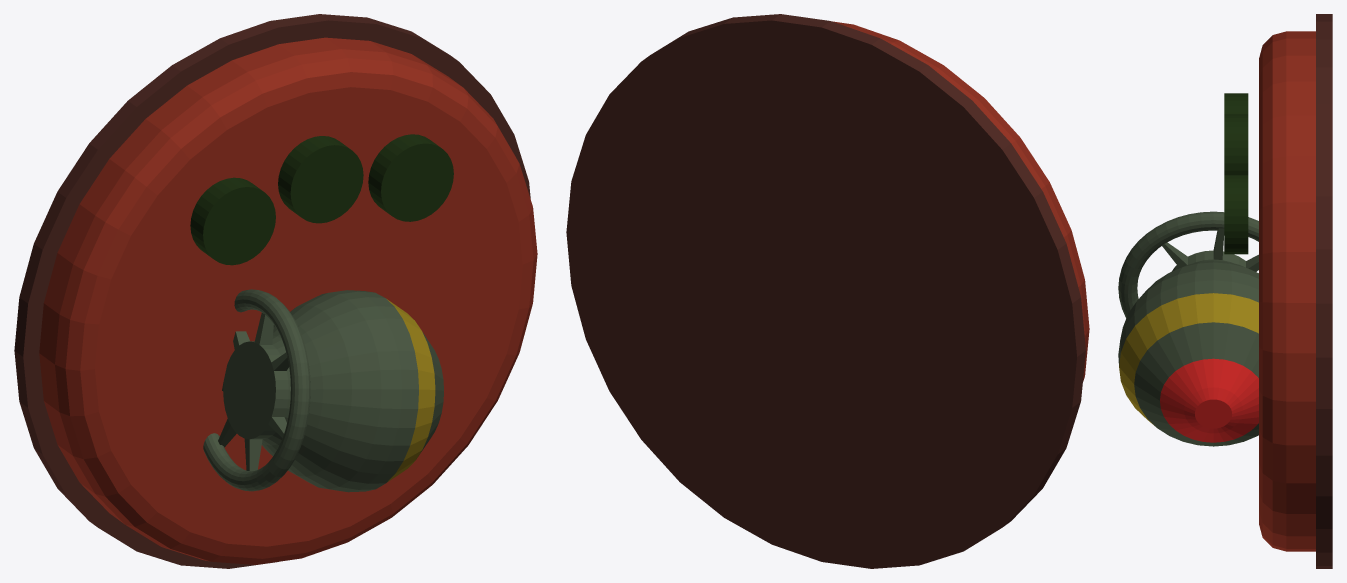
File: NukeButton1.glb
3 views of the same model, side by side, from view 1: azimuth 30°, elevation 25°; view 2: azimuth 150°, elevation 25°; view 3: azimuth 270°, elevation 25° (orthographic). The views are drawn at different scales.
Parts seen in each view (by area): view 1: Cylinder.009, Cylinder.005, Cylinder.008, Cylinder.006, Cylinder.007; view 2: Cylinder.009; view 3: Cylinder.009, Cylinder.005, Cylinder.008, Cylinder.006, Cylinder.007.
Part boxes in pixels (left/top/right/bottom): Cylinder.009: left=14, top=14, right=537, bottom=568; Cylinder.005: left=203, top=289, right=444, bottom=492; Cylinder.008: left=368, top=134, right=453, bottom=221; Cylinder.006: left=278, top=136, right=363, bottom=223; Cylinder.007: left=190, top=177, right=275, bottom=265; Cylinder.009: left=566, top=14, right=1089, bottom=568; Cylinder.009: left=1259, top=14, right=1332, bottom=568; Cylinder.005: left=1118, top=211, right=1258, bottom=446; Cylinder.008: left=1224, top=175, right=1248, bottom=254; Cylinder.006: left=1224, top=114, right=1248, bottom=174; Cylinder.007: left=1224, top=93, right=1248, bottom=114.
Size of the model in its own units: 1 by 1 by 0.3858.
